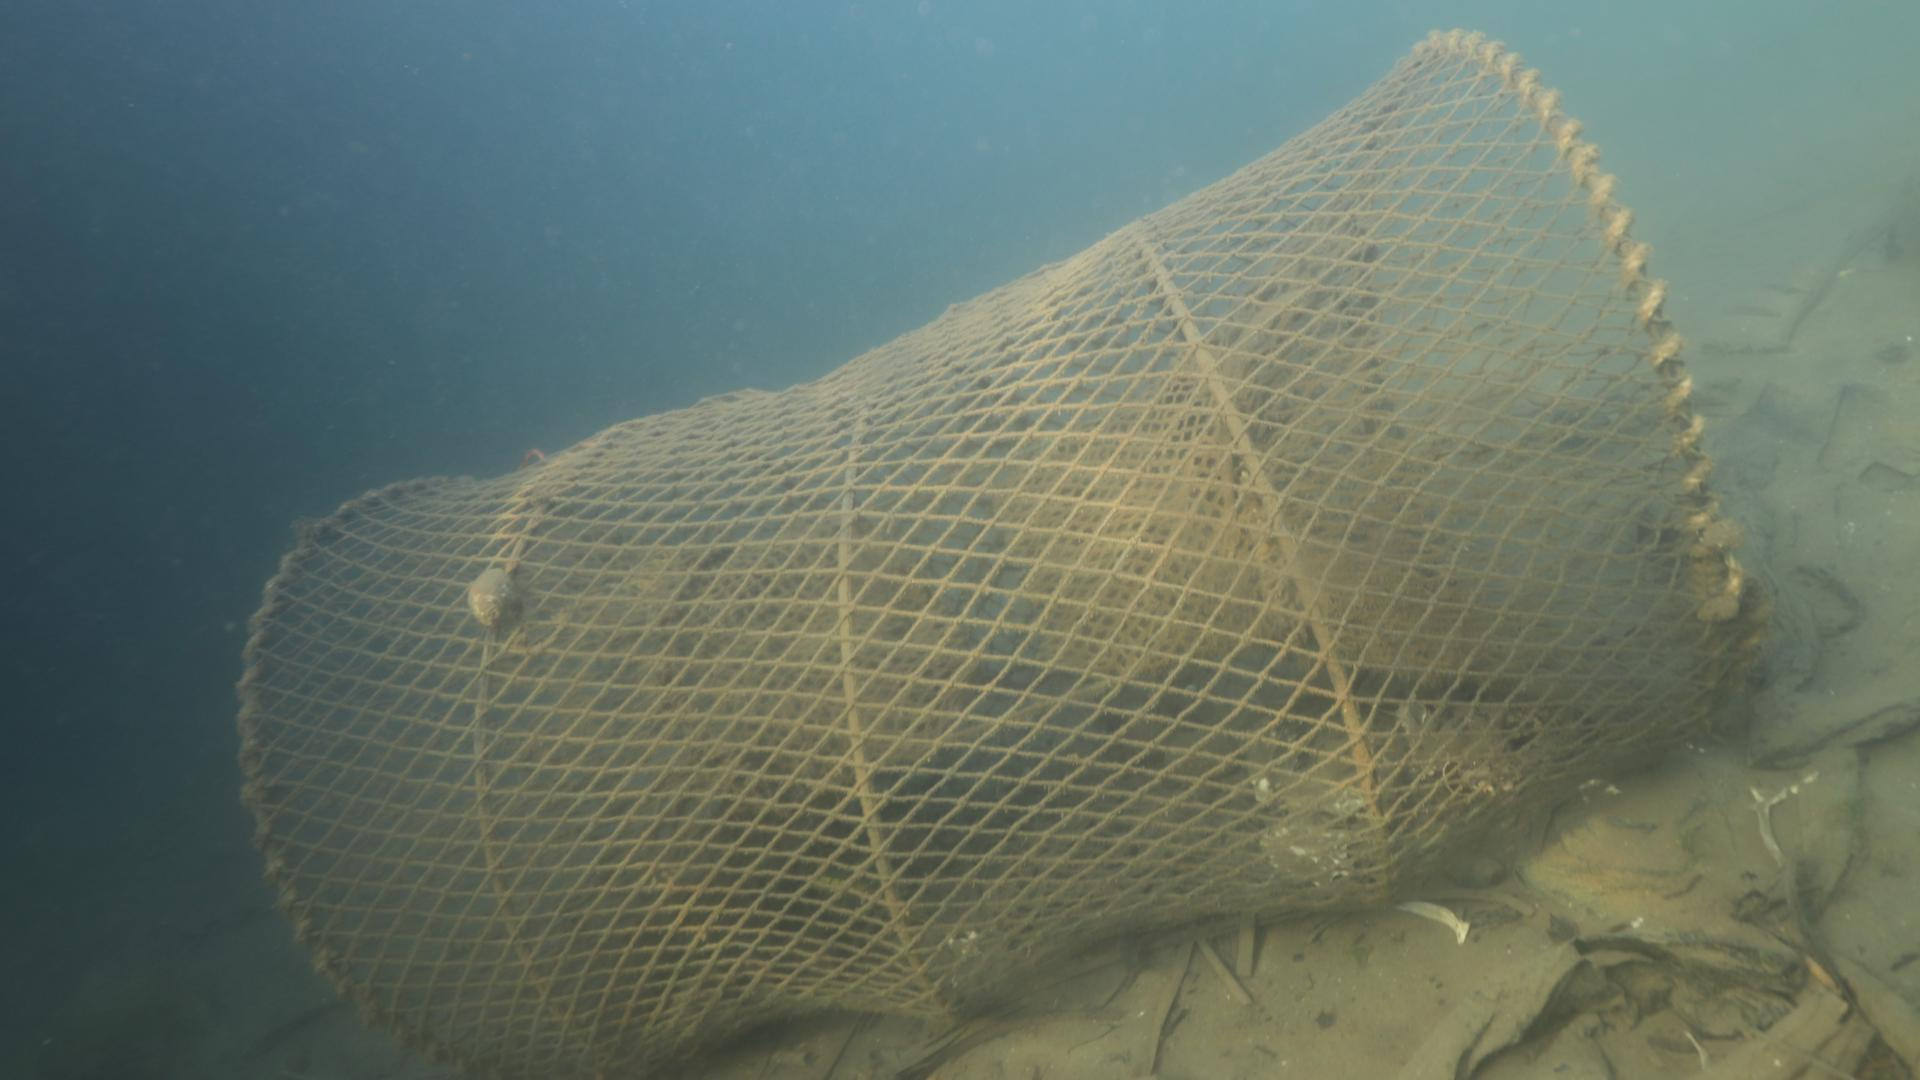spring fish trap: (231, 22, 1764, 1080)
